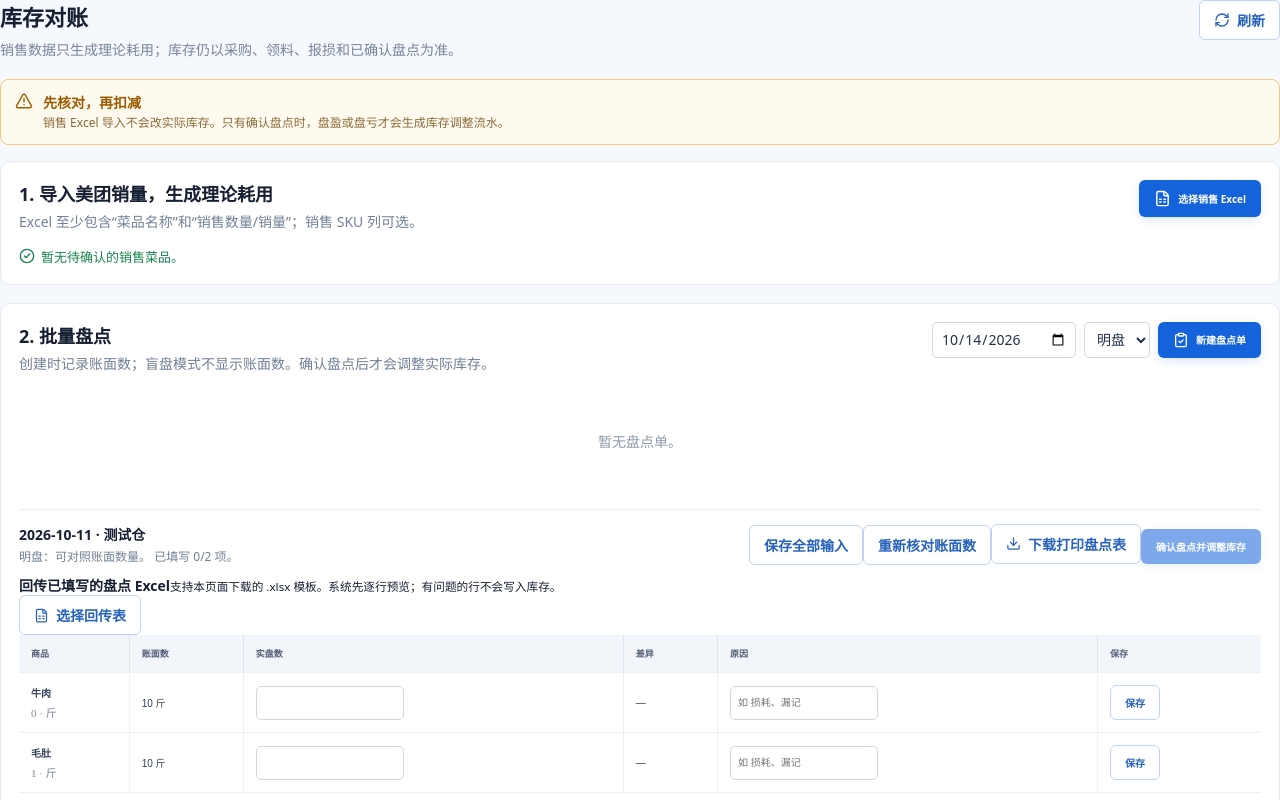
Test case: 盘点输入保护 › 保存第一行不会丢掉第二行未保存输入
Type "8" into the number field named "牛肉实盘数". click: (330, 703)
box: [256,686,404,720]
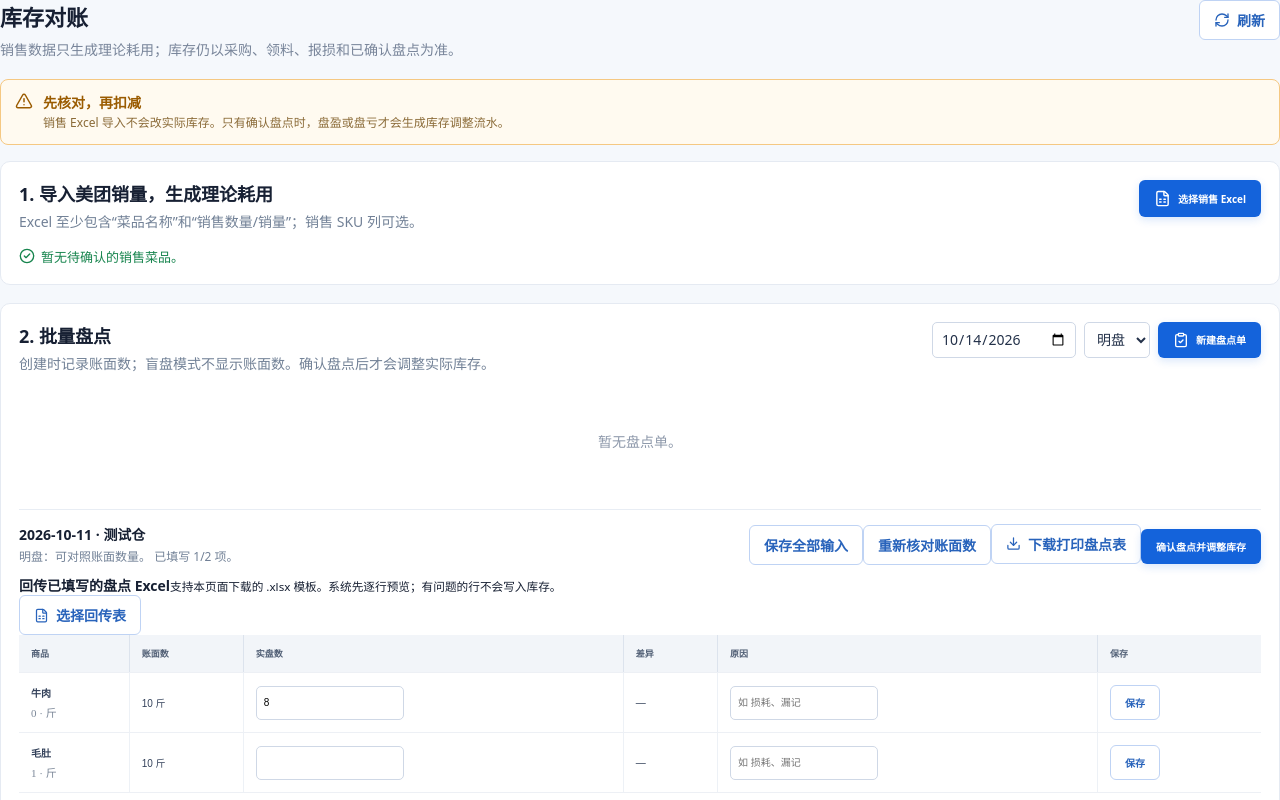
Type "7" into the number field named "毛肚实盘数". click: (330, 763)
box: [256,746,404,780]
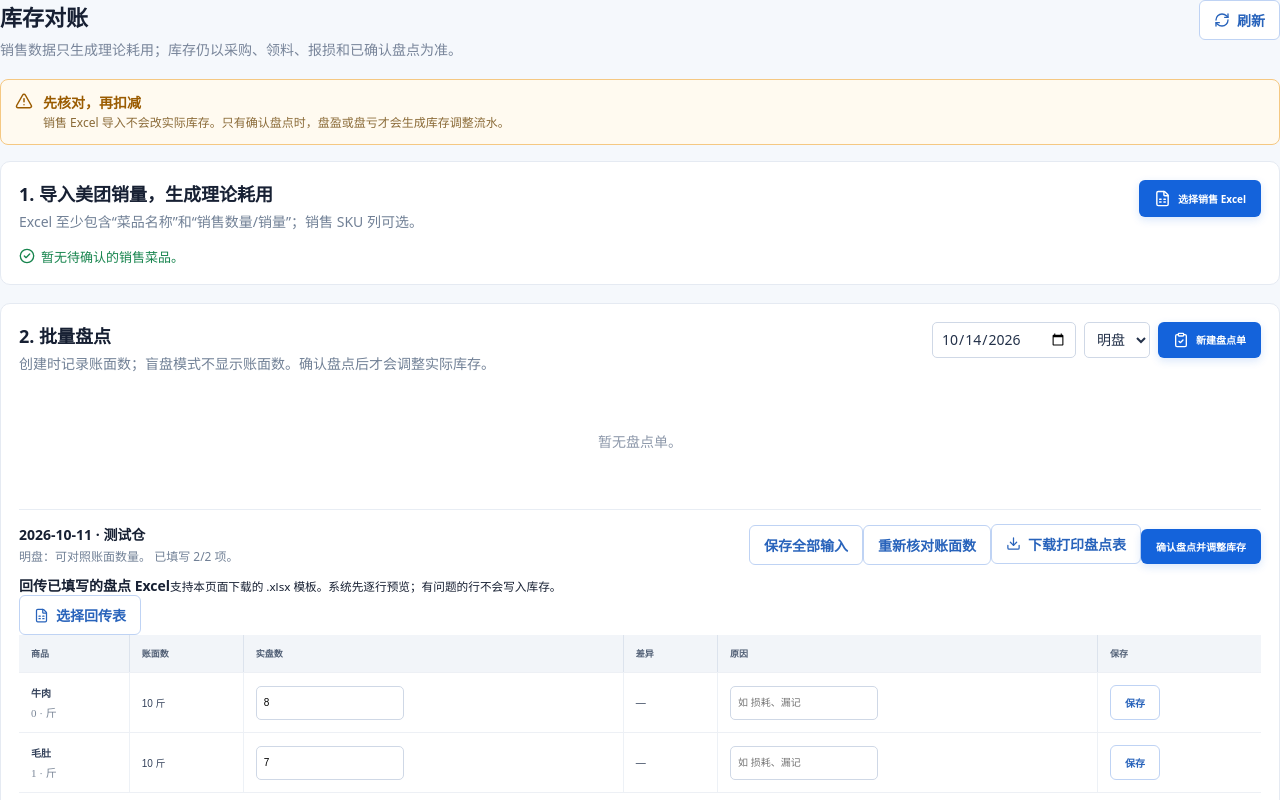
Click the button "保存" in the row of "牛肉". click: (1135, 703)
box: [1110,685,1160,720]
(page scrolled)
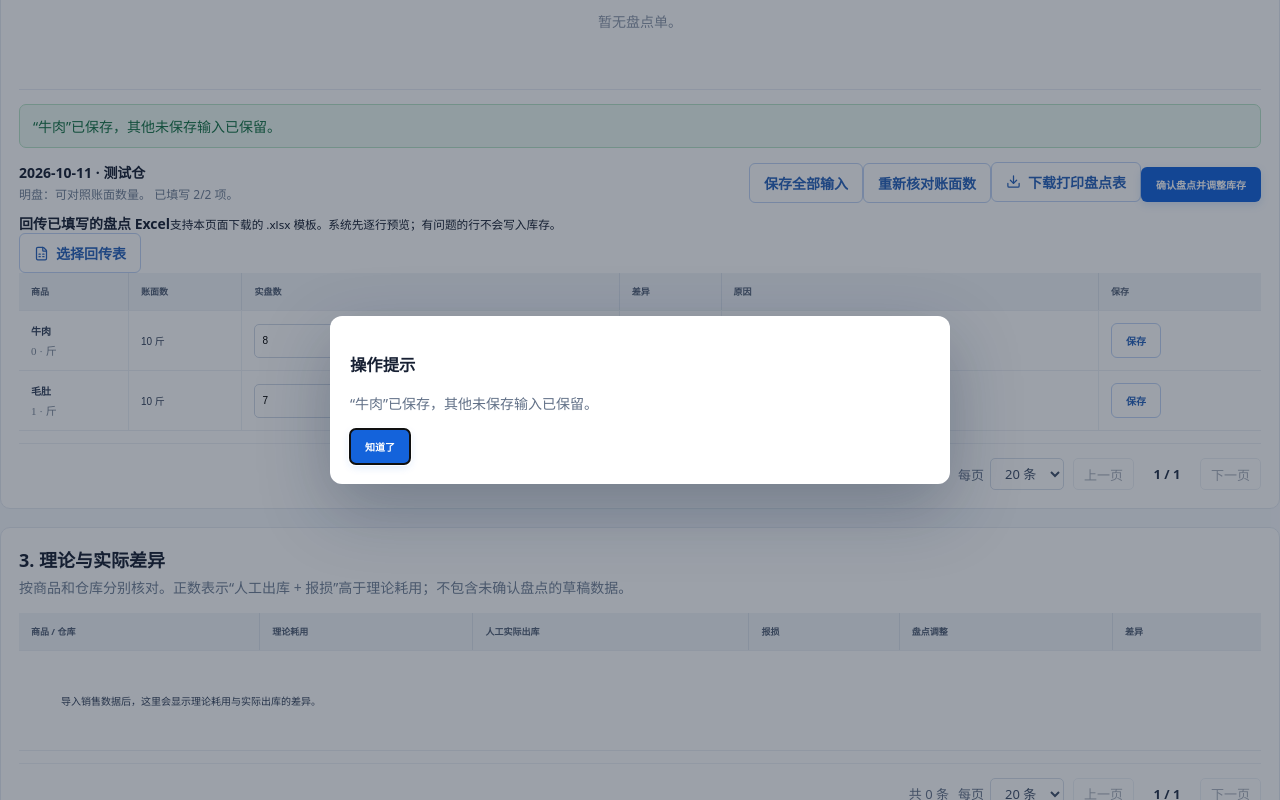
Expected: the button "知道了" is shown, [350,429,410,464]
